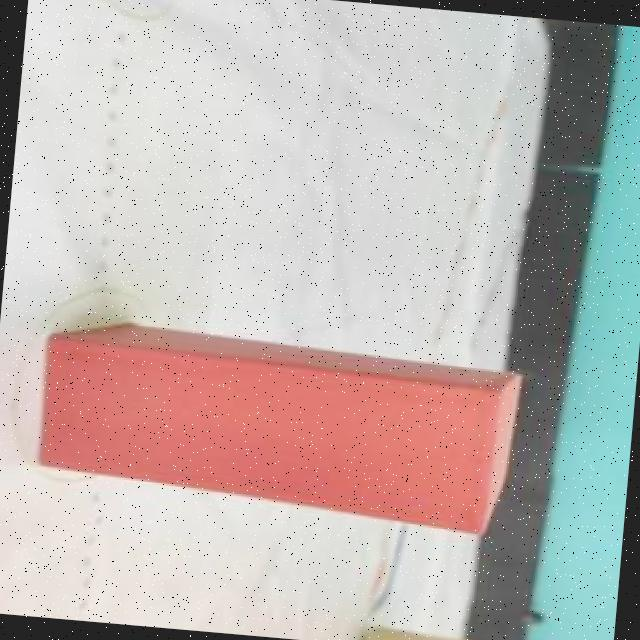redbox: (37, 317, 520, 537)
